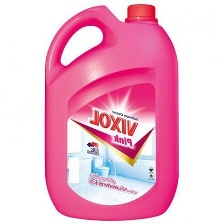cleaning_solution: (41, 3, 181, 223)
